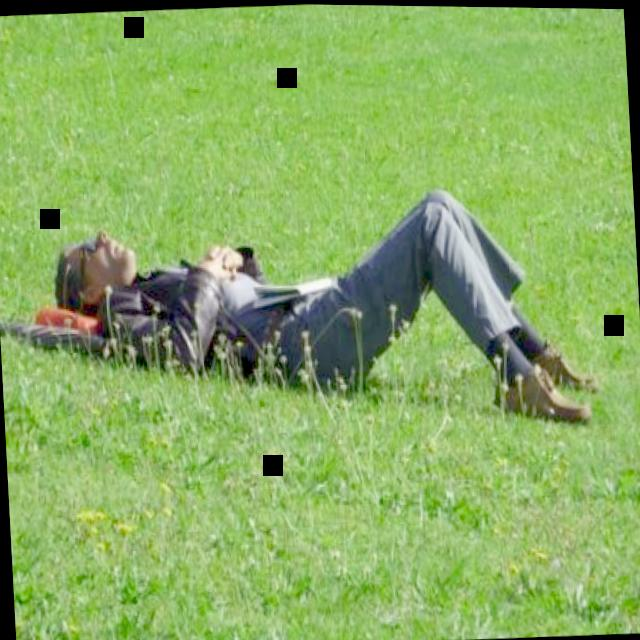Fall-Detected: (35, 153, 592, 442)
